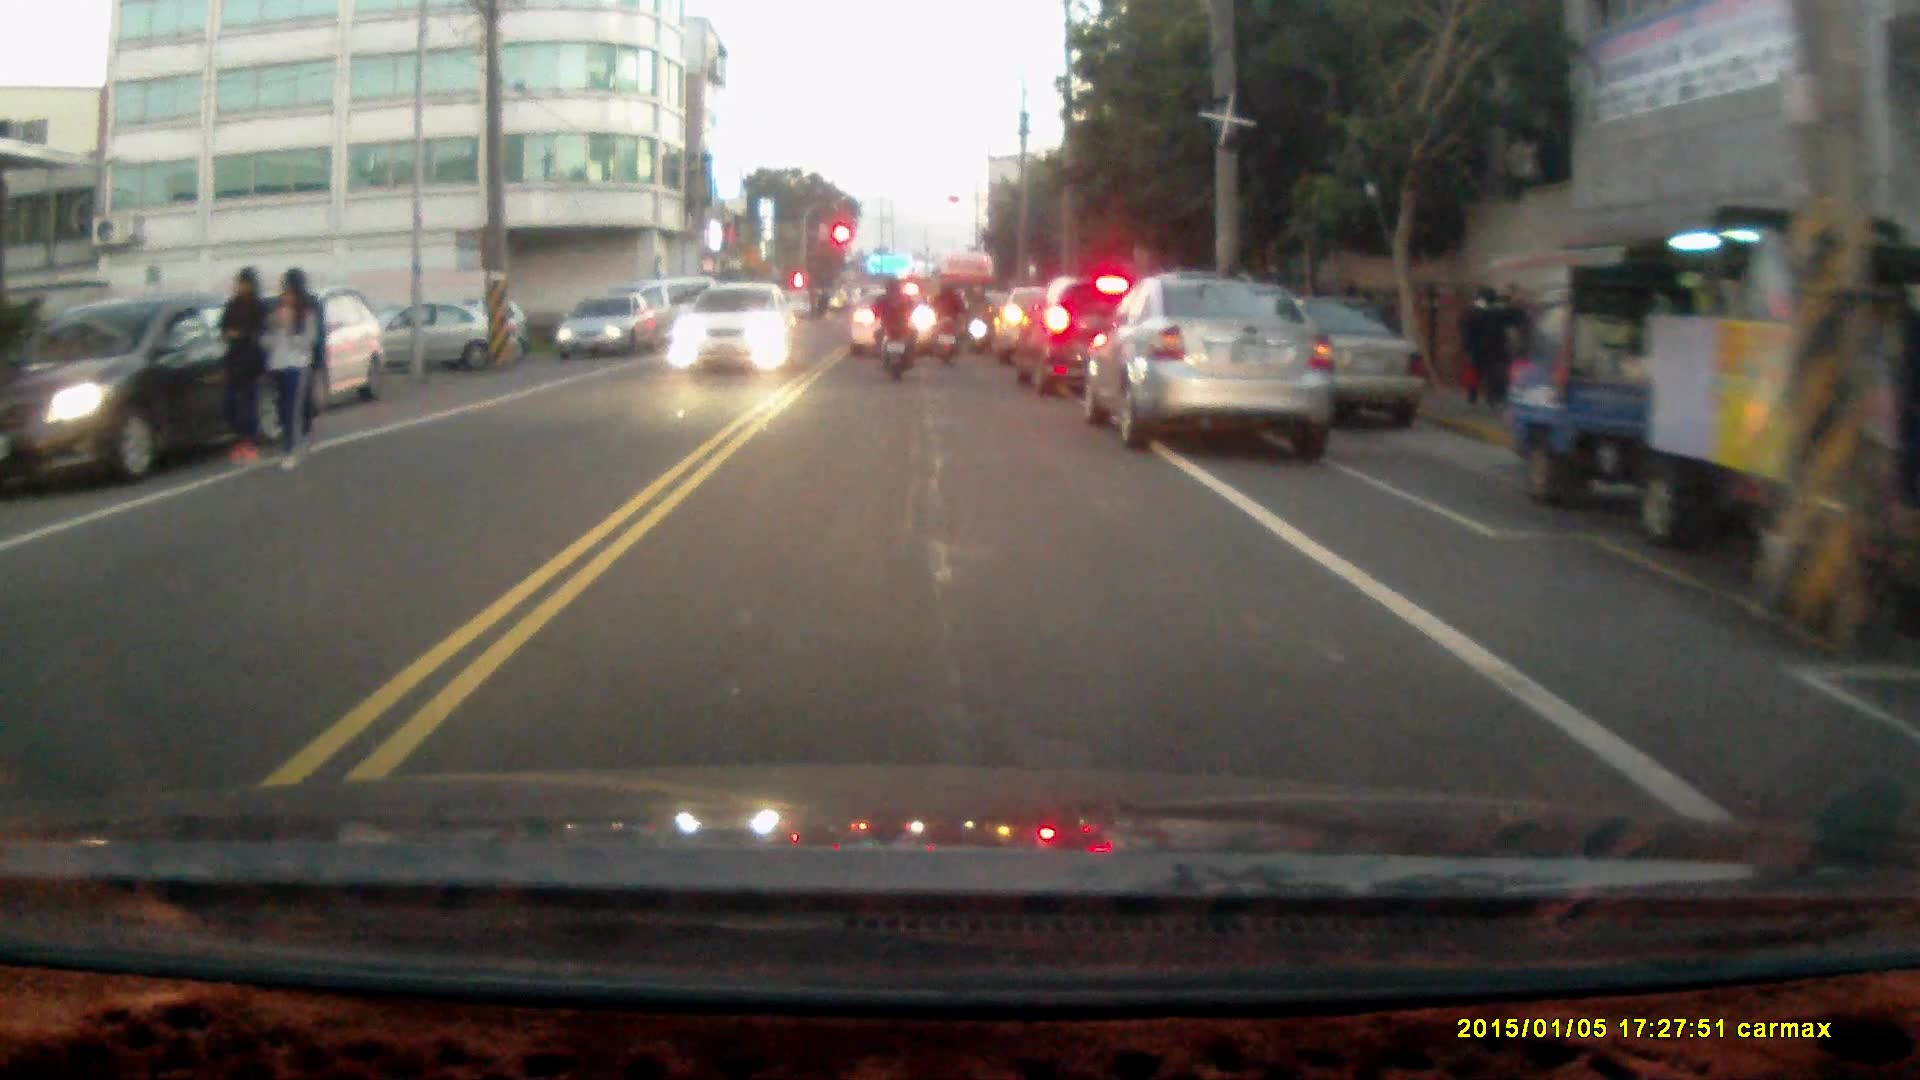pedestrian: (263, 267, 319, 473), (214, 266, 261, 473), (1494, 281, 1534, 407), (1466, 285, 1506, 412)
rider: (868, 276, 915, 384), (927, 275, 968, 364)
vehicle: (1492, 218, 1920, 542), (1, 297, 284, 497), (1094, 277, 1335, 455), (209, 290, 384, 426), (1020, 279, 1173, 403), (668, 284, 794, 377), (554, 294, 651, 363), (850, 293, 940, 362)
